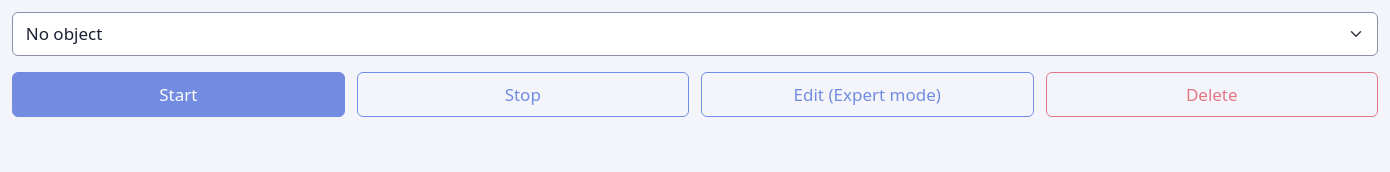
Test case: enables the actions once an object is selected; stop only for a running one
This screenshot has width=1390, height=172.
Expected: the button "Start" is disabled, [12,72,344,116]
Step 1. Select "Name: first" in the dropdown → coordinates (695, 34), box [12,12,1378,56]
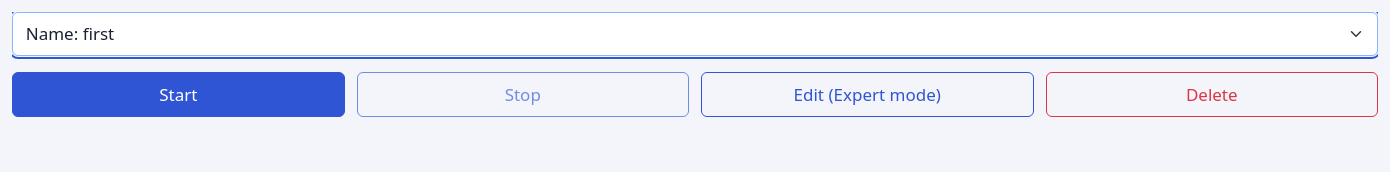
Expected: the button "Stop" is disabled, [356,72,689,116]
Result: the button "Start" is enabled at [12,72,344,116]
Step 2. Select "Name: second" in the dropdown → coordinates (695, 34), box [12,12,1378,56]
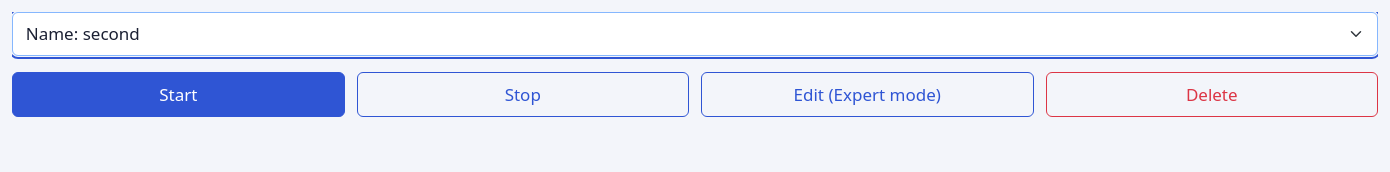
Result: the button "Stop" is enabled at [356,72,689,116]
